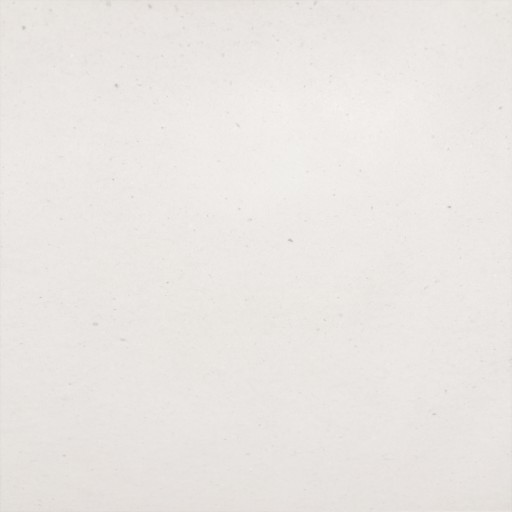lego: (234, 243, 281, 267)
